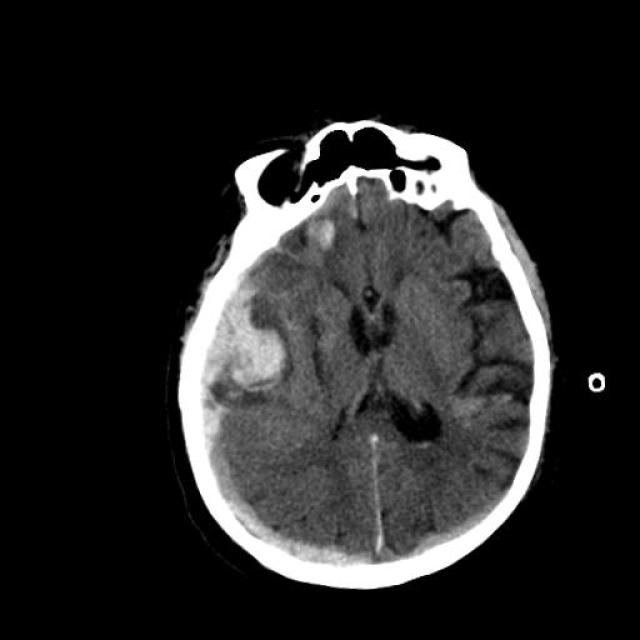Intraparenchymal: (184, 291, 308, 407)
Subdural: (194, 425, 377, 617), (394, 489, 530, 605)
